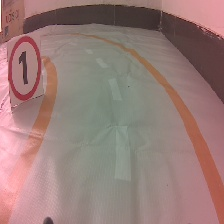limit: (6, 32, 47, 107)
